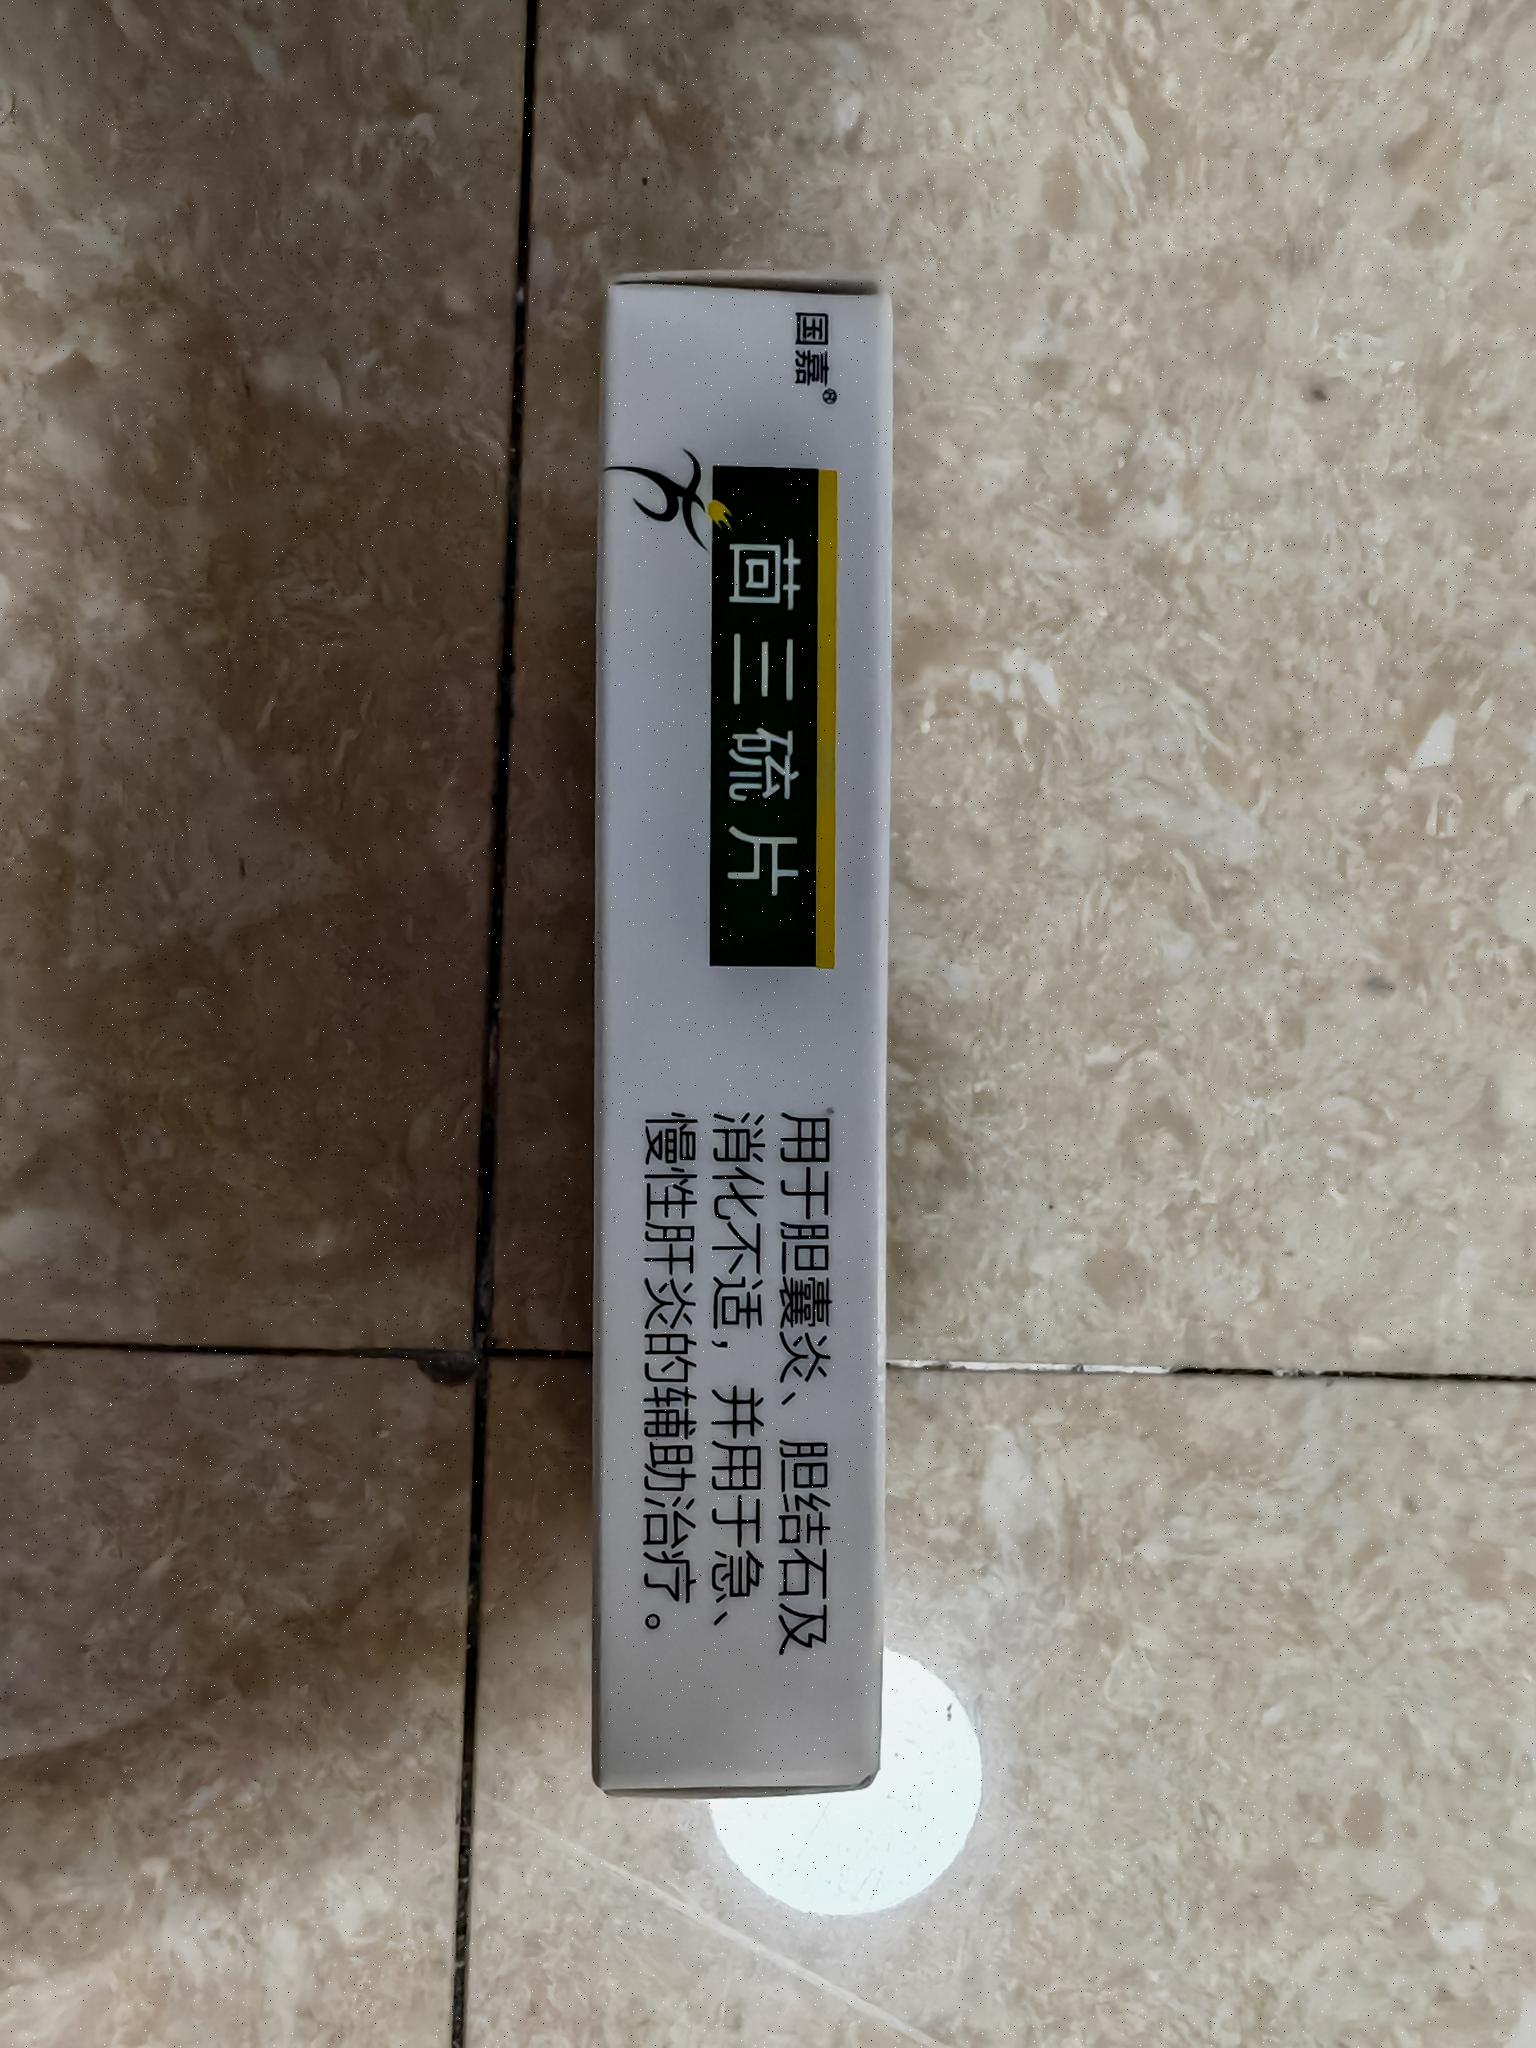Medicine4: (563, 250, 929, 1837)
